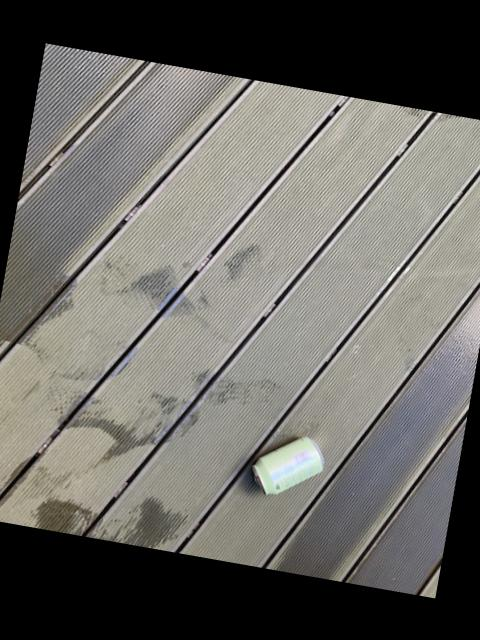metal: (251, 432, 328, 494)
